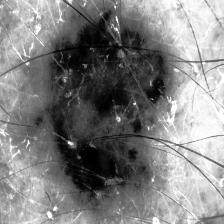Benign Marking or Mole: (55, 13, 164, 203)
